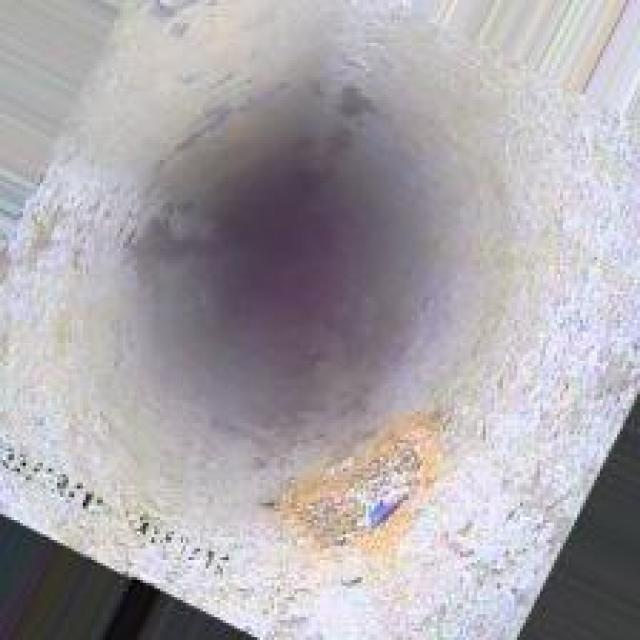ferrule: (288, 420, 446, 549)
